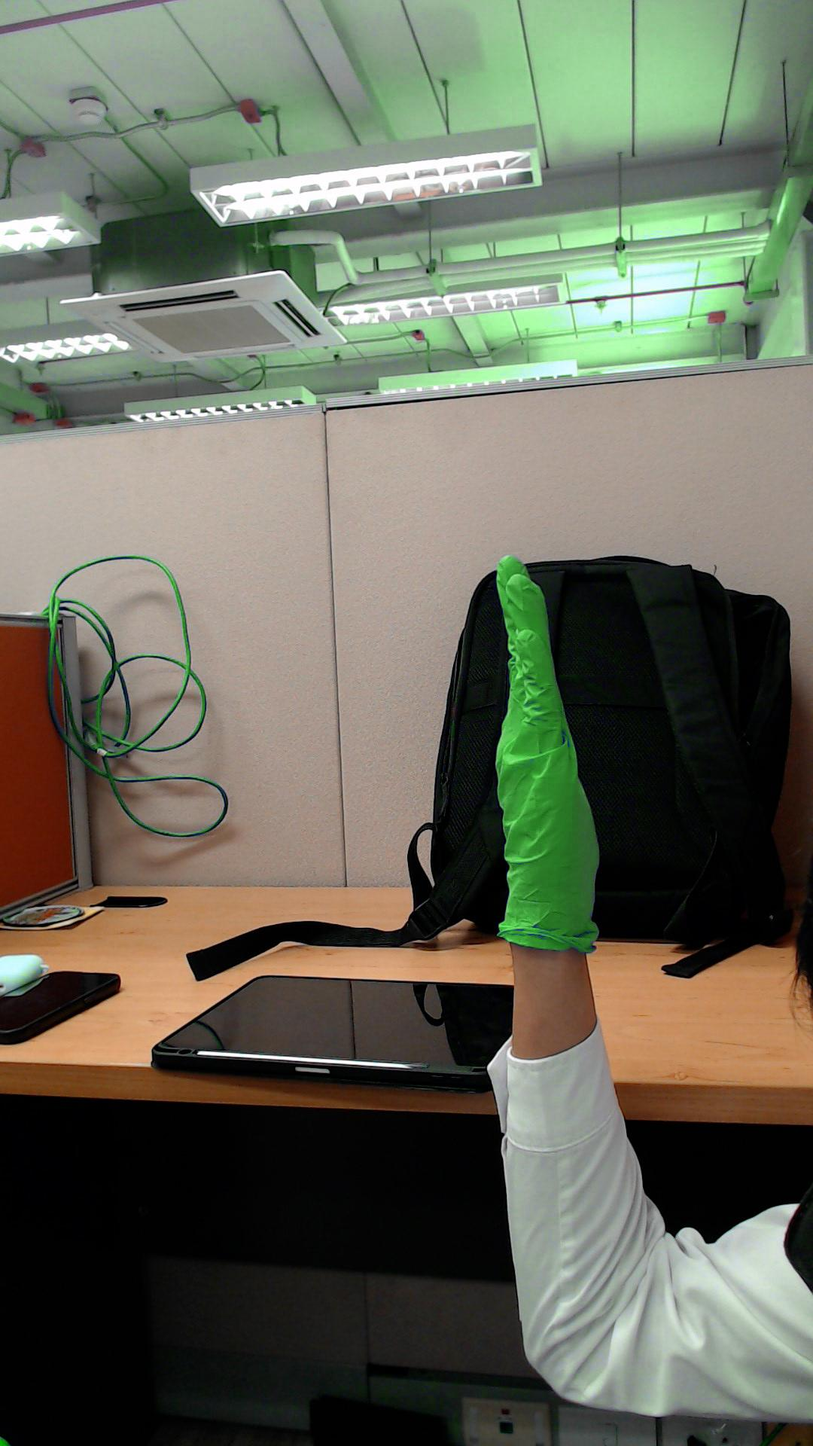gloves: (483, 538, 607, 896)
